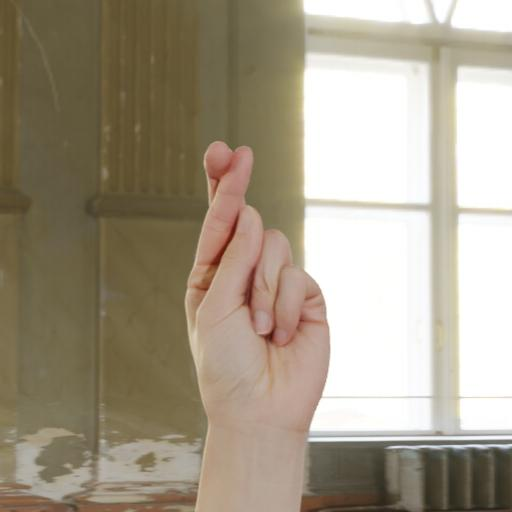R: (168, 130, 350, 466)
